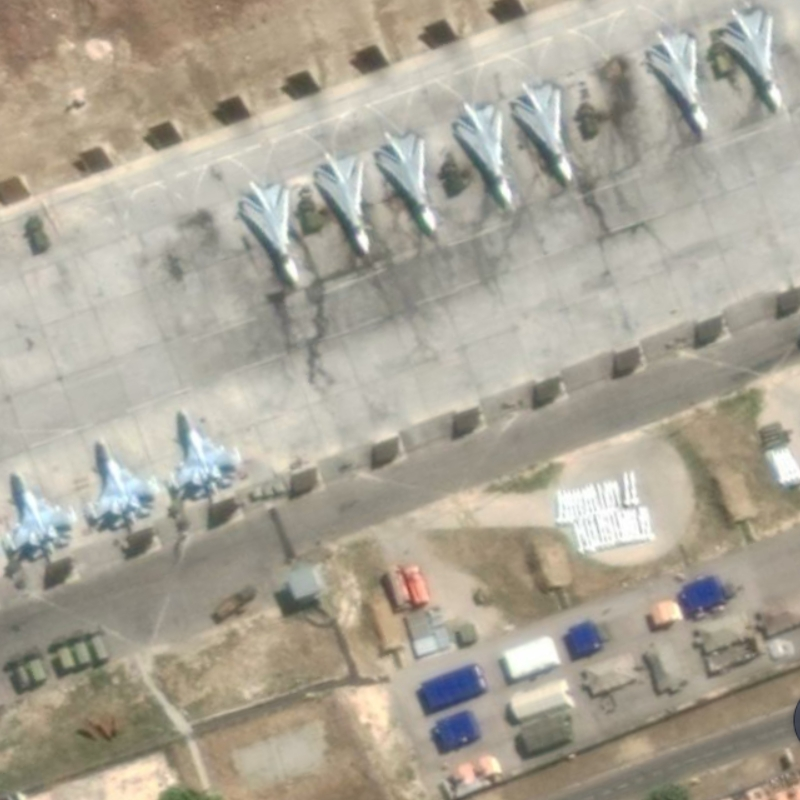A1: (85, 433, 163, 532), (166, 407, 245, 501), (2, 467, 81, 561)
A20: (237, 179, 303, 287), (452, 99, 516, 208), (373, 129, 439, 233), (646, 29, 711, 133), (312, 150, 374, 256), (513, 80, 575, 184), (716, 6, 776, 103)
